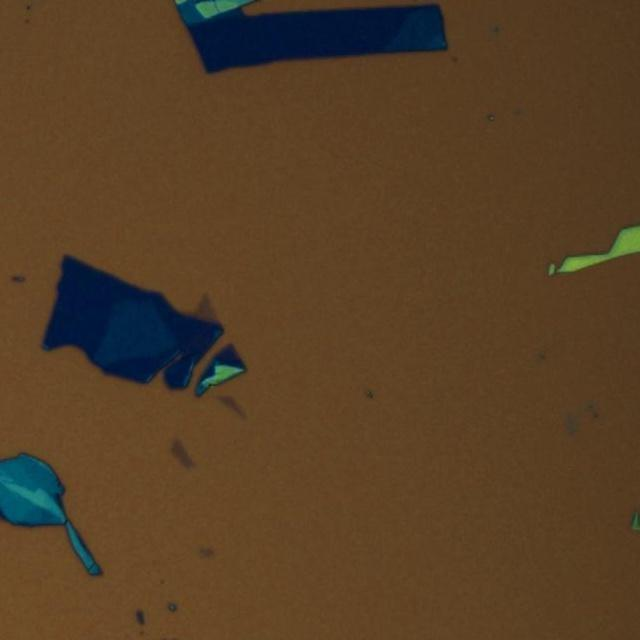monolayer-eWW4: (168, 436, 196, 471), (190, 290, 220, 322), (216, 394, 247, 418)
